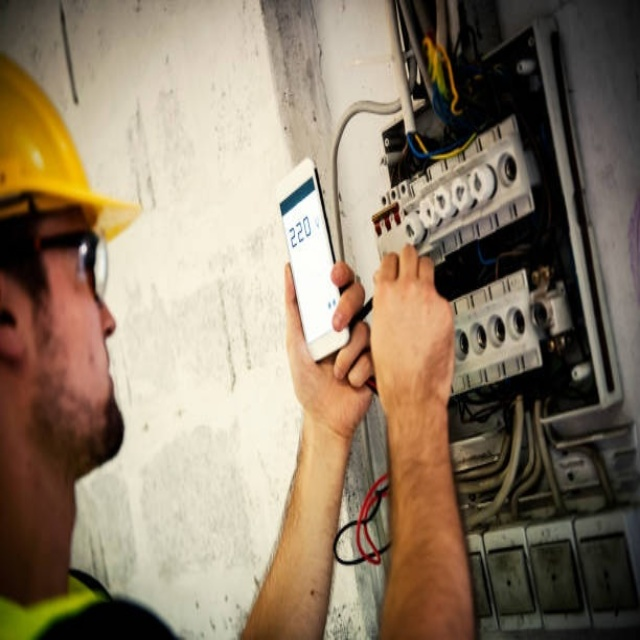Gafas: (27, 226, 117, 297)
Sin_guantes: (283, 256, 378, 438), (366, 242, 456, 422)
Sin_mascara: (81, 333, 133, 481)
